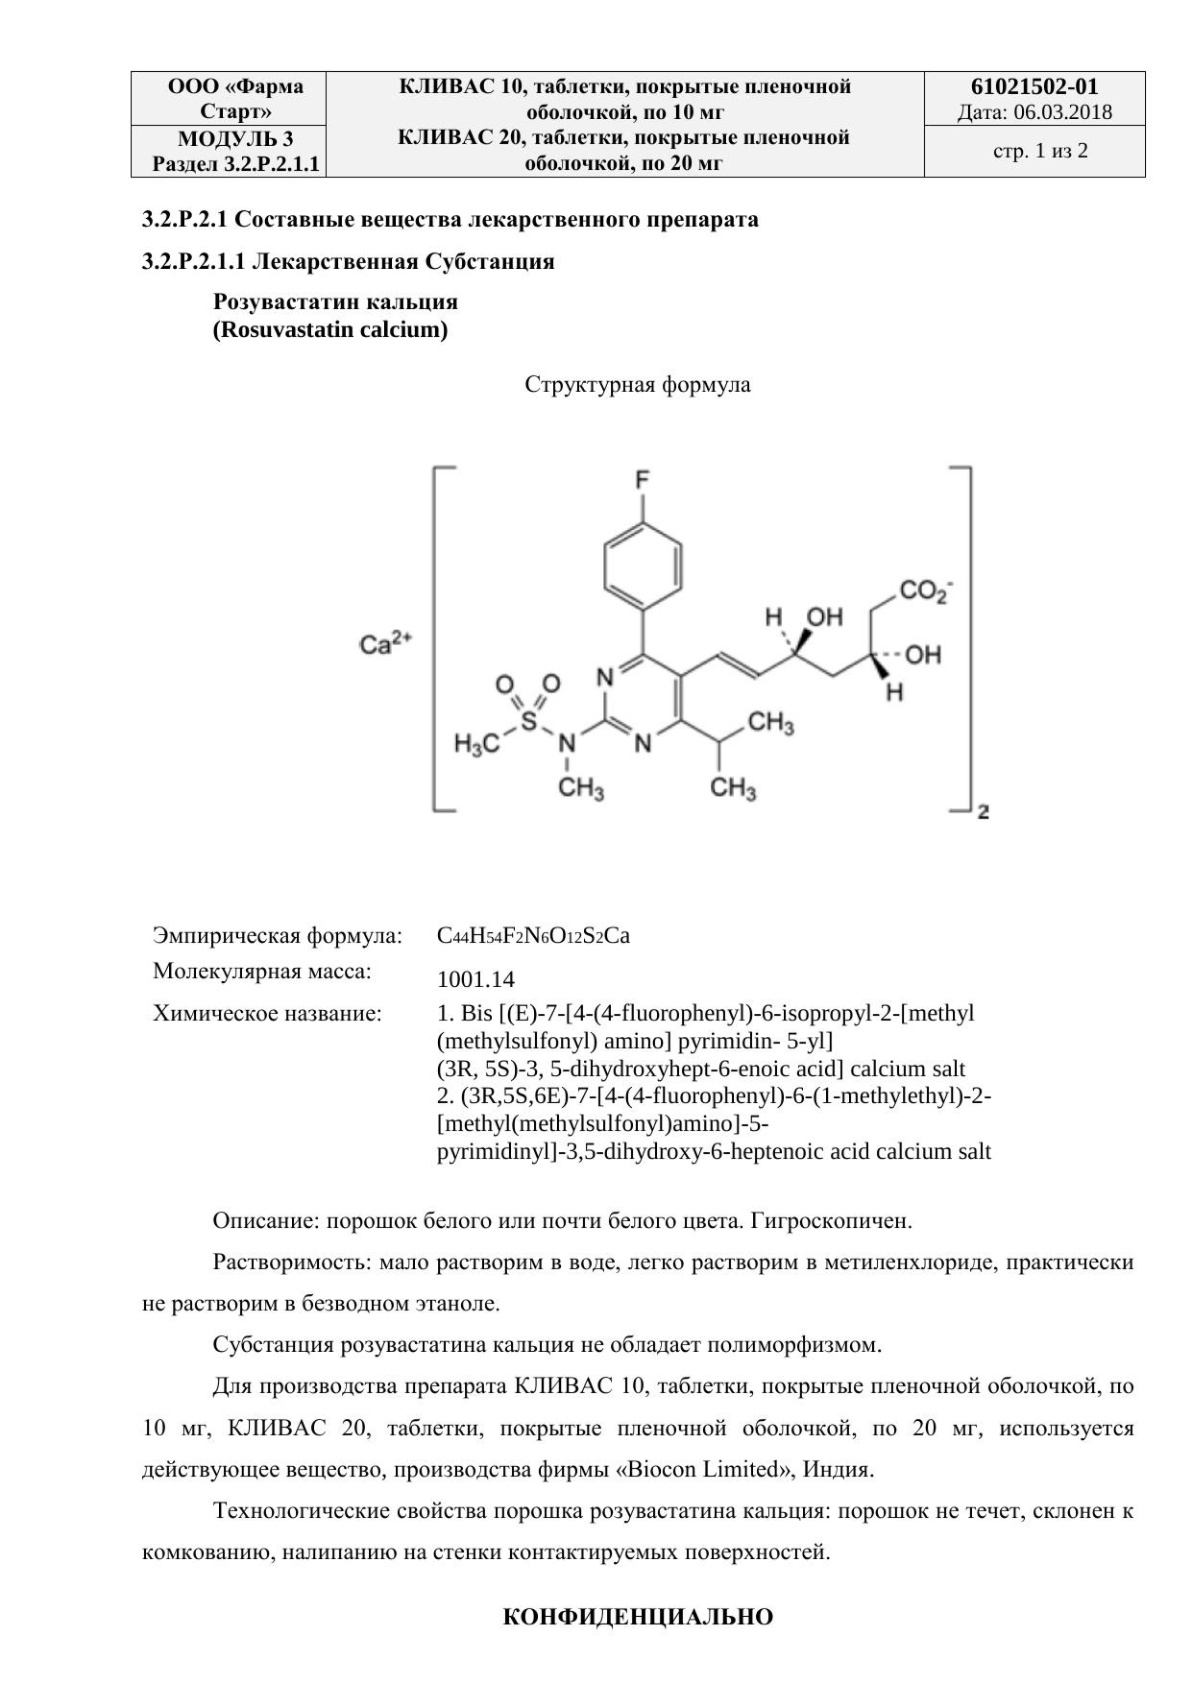merged_cells: (128, 70, 1147, 179)
